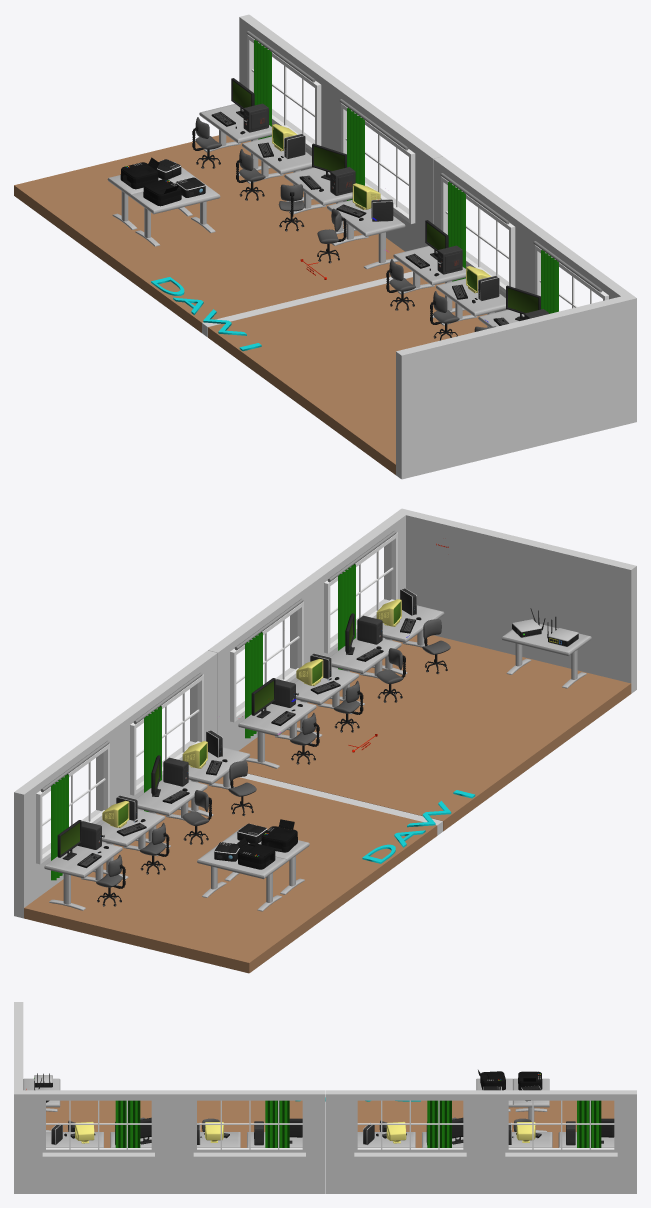
The model's file is prueba.glb.
3 renders of one model, top to bottom at view 1: azimuth 30°, elevation 25°; view 2: azimuth 150°, elevation 25°; view 3: azimuth 270°, elevation 25°, orthographic. The views are drawn at different scales.
Visible parts, largest first — view 1: Object_4.001, Object_4, Object_56, Object_56.001, Object_58, Object_9.001, Object_9, Object_6, Object_6.001, Texto.011, Object_62, Object_66 (+11 smaller); view 2: Object_4.001, Object_4, Object_56, Object_56.001, Object_60.001, Object_62, Object_9, Object_9.001, Object_6.001, Object_6, Texto.011, Object_66 (+14 smaller); view 3: Object_4.001, Object_4, Object_56, Object_56.001, Object_6, Object_6.001, Object_9.001, Object_9, Object_62, Object_60.001, Object_64, Object_66 (+4 smaller).
Part boxes in pixels (x1=…): Object_4.001: x1=208, y1=156, x2=636, y2=479; Object_4: x1=14, y1=14, x2=442, y2=337; Object_56: x1=199, y1=104, x2=405, y2=269; Object_56.001: x1=393, y1=246, x2=524, y2=327; Object_58: x1=130, y1=178, x2=220, y2=246; Object_9.001: x1=448, y1=181, x2=465, y2=281; Object_9: x1=254, y1=39, x2=271, y2=139; Object_6: x1=347, y1=107, x2=364, y2=200; Object_6.001: x1=541, y1=249, x2=558, y2=313; Texto.011: x1=151, y1=277, x2=261, y2=351; Object_62: x1=107, y1=162, x2=196, y2=229; Object_66: x1=120, y1=157, x2=159, y2=189; Object_4.001: x1=208, y1=508, x2=636, y2=831; Object_4: x1=14, y1=650, x2=442, y2=973; Object_56: x1=44, y1=747, x2=250, y2=910; Object_56.001: x1=238, y1=605, x2=444, y2=768; Object_60.001: x1=501, y1=620, x2=591, y2=688; Object_62: x1=197, y1=845, x2=286, y2=911; Object_9: x1=51, y1=774, x2=68, y2=880; Object_9.001: x1=245, y1=632, x2=262, y2=738; Object_6.001: x1=338, y1=564, x2=355, y2=669; Object_6: x1=144, y1=705, x2=161, y2=811; Texto.011: x1=362, y1=790, x2=475, y2=863; Object_66: x1=237, y1=837, x2=275, y2=869; Object_4.001: x1=14, y1=1002, x2=325, y2=1193; Object_4: x1=325, y1=1090, x2=636, y2=1193; Object_56: x1=357, y1=1132, x2=614, y2=1147; Object_56.001: x1=46, y1=1132, x2=302, y2=1147; Object_6: x1=427, y1=1100, x2=451, y2=1147; Object_6.001: x1=115, y1=1100, x2=140, y2=1147; Object_9.001: x1=265, y1=1100, x2=289, y2=1147; Object_9: x1=577, y1=1100, x2=601, y2=1147; Object_62: x1=513, y1=1078, x2=549, y2=1131; Object_60.001: x1=23, y1=1078, x2=60, y2=1131; Object_64: x1=478, y1=1070, x2=505, y2=1090; Object_66: x1=518, y1=1071, x2=542, y2=1090.
Size of what is drawn, in the model's own units: 2.11 by 1.06 by 6.02.
Materials: 11 (4 with a texture image).
